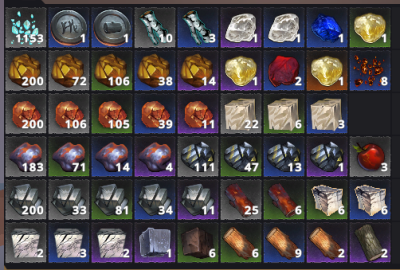ash log: (351, 223, 389, 260)
aurelium ore: (7, 51, 45, 89), (136, 51, 174, 89), (178, 51, 217, 88), (50, 51, 88, 88), (93, 51, 131, 88)
birch log: (135, 8, 173, 45), (178, 9, 217, 45)
chaos ember: (350, 52, 388, 88)
copper ore: (136, 94, 174, 132), (179, 94, 217, 132), (7, 95, 45, 132), (50, 94, 88, 131), (93, 95, 131, 131)
diamond gem: (222, 9, 260, 47), (265, 8, 303, 46)
ethereal dust: (7, 7, 45, 46)
granite stone: (136, 223, 173, 260)
iron ore: (93, 137, 133, 175), (7, 137, 46, 175), (50, 137, 88, 175), (136, 138, 174, 174)
limestone stone: (307, 180, 347, 218), (351, 180, 388, 217)
marble stone: (92, 223, 132, 260), (7, 223, 45, 261), (50, 223, 88, 260)
oak log: (222, 222, 262, 261), (308, 221, 347, 260), (267, 223, 303, 261)
ruby gem: (264, 52, 304, 89)
sapphire gem: (308, 9, 346, 47)
silver ore: (178, 180, 218, 216), (7, 181, 45, 218), (137, 181, 175, 218), (93, 181, 132, 217), (51, 181, 88, 218)
slate stone: (179, 223, 217, 260)
tin ore: (179, 136, 218, 175), (308, 137, 346, 175), (222, 137, 260, 174), (265, 138, 303, 174)
topaz gem: (352, 9, 389, 46), (223, 51, 259, 89), (310, 52, 345, 89)
travertine stone: (222, 93, 260, 132), (308, 93, 346, 132), (265, 94, 302, 131)
yew log: (265, 181, 303, 218), (223, 181, 260, 217)
